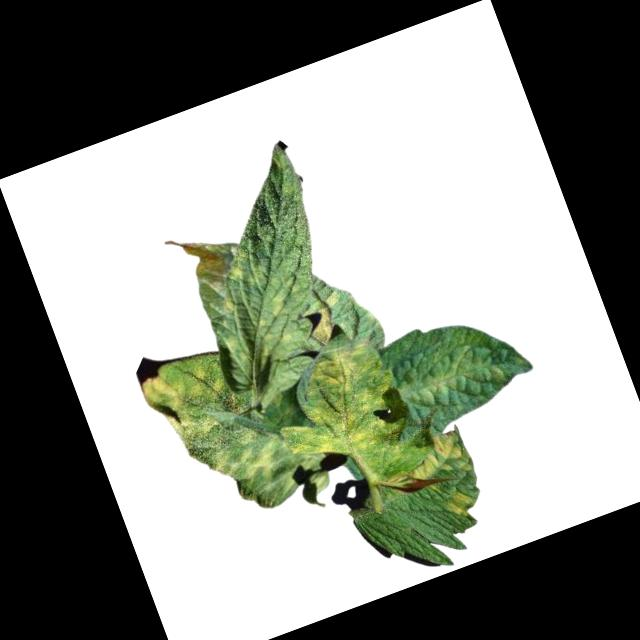Leaf_Mold: (261, 334, 416, 481), (390, 333, 508, 417), (139, 351, 240, 448), (202, 419, 297, 505), (393, 425, 477, 492), (239, 281, 308, 361), (171, 232, 231, 303), (296, 288, 351, 347), (221, 243, 269, 294), (441, 486, 477, 522), (221, 298, 236, 314)
